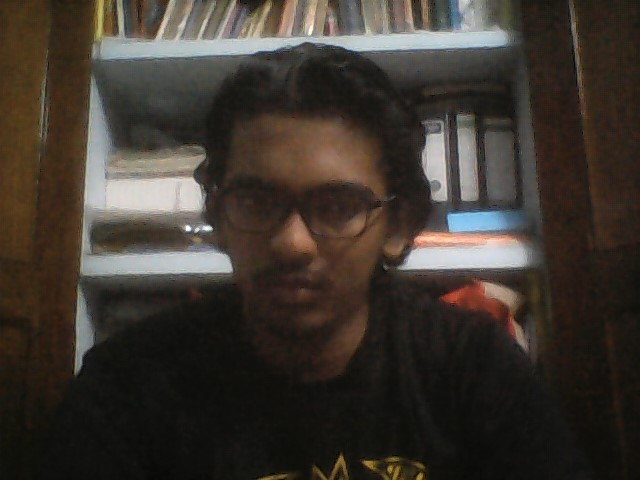person: (69, 37, 559, 475)
